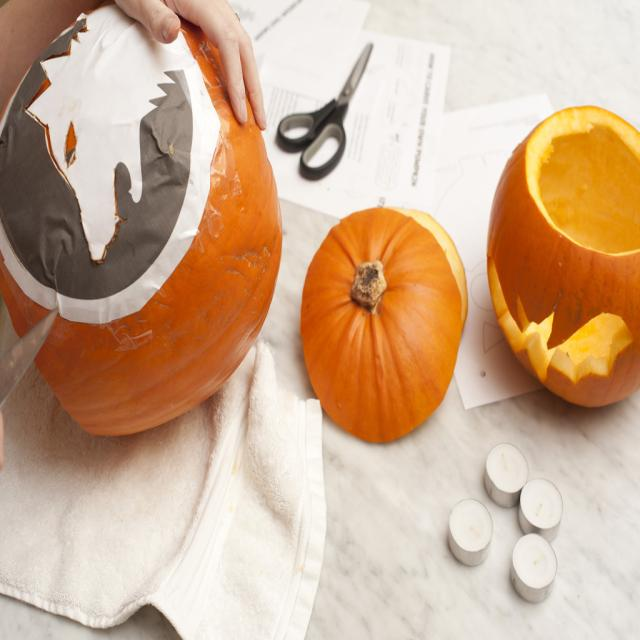scissors: (276, 41, 373, 180)
